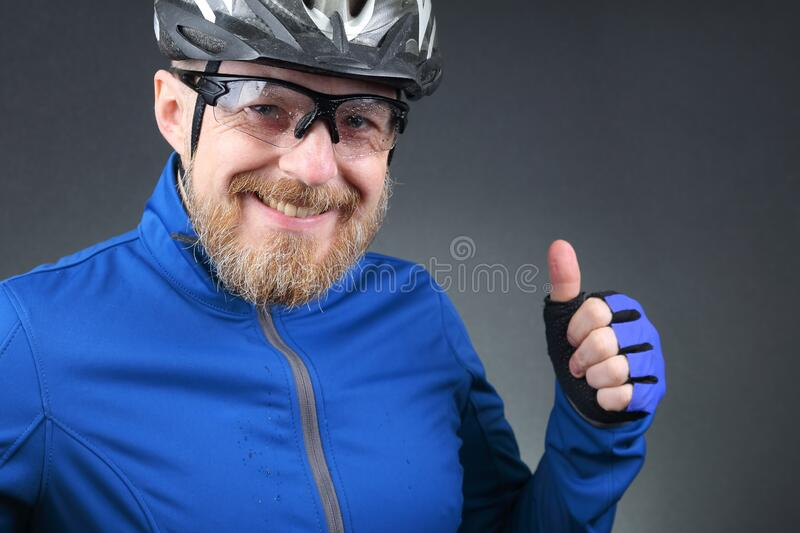helmet: (153, 1, 442, 304)
